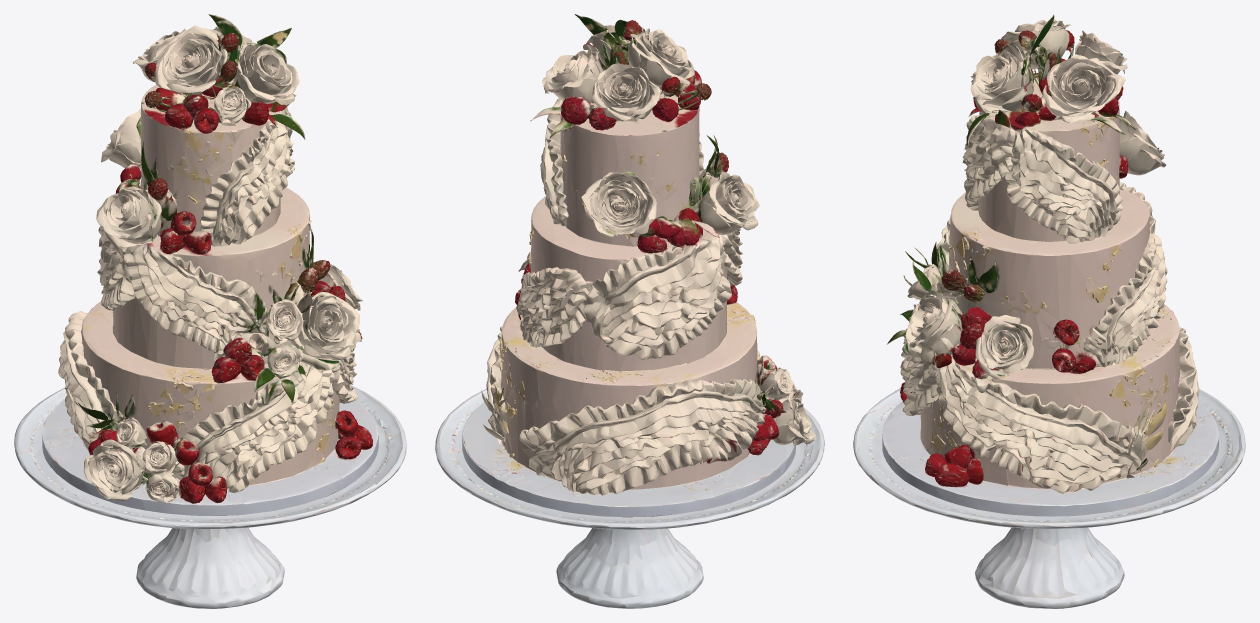
File: cake.glb
3 renders of one model, left to right at view 1: azimuth 30°, elevation 25°; view 2: azimuth 150°, elevation 25°; view 3: azimuth 270°, elevation 25°, orthographic.
Visible parts, largest first — view 1: Mesh_0; view 2: Mesh_0; view 3: Mesh_0.
Boxes of the visible parts, x1,y1,x2,y2 form: Mesh_0: (14, 14, 406, 608); Mesh_0: (435, 14, 824, 608); Mesh_0: (853, 14, 1245, 608).
Bounding box in the file's own units: 1.17 × 1.86 × 1.17.
Materials: 1 (1 with a texture image).
